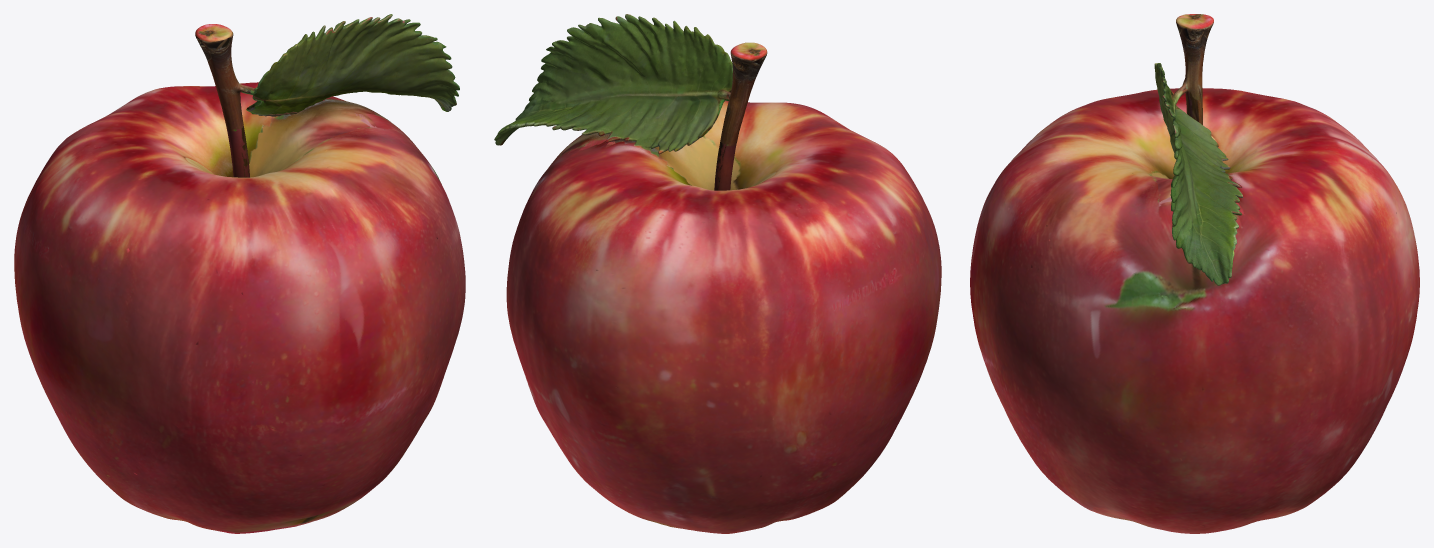
The picture shows the model from 3 angles, left to right: view 1: azimuth 30°, elevation 25°; view 2: azimuth 150°, elevation 25°; view 3: azimuth 270°, elevation 25°; orthographic projection. The views are drawn at different scales.
Bounding box in the file's own units: 1.54 × 1.65 × 1.45.
Materials: 1 (1 with a texture image).
